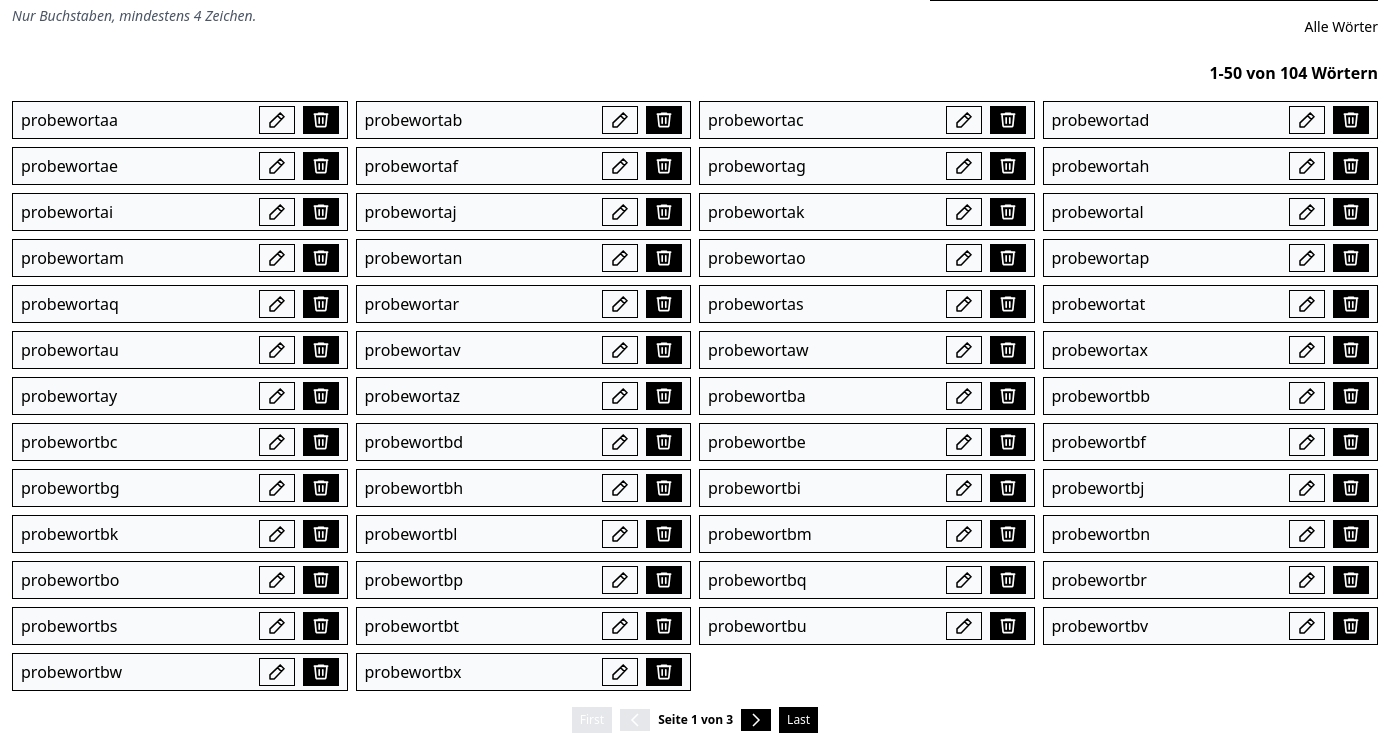
Test: WortgeflechtWordList › searches across all dictionary words and resets to page 1
The image size is (1390, 733).
(page scrolled)
Expected: the text "1-50 von 104 Wörtern" is shown, left=1209, top=62, right=1378, bottom=84
Step 1. Click the button named "Next page" → x=756, y=720, box left=741, top=709, right=771, bottom=731
Wait 250 ms
(page scrolled)
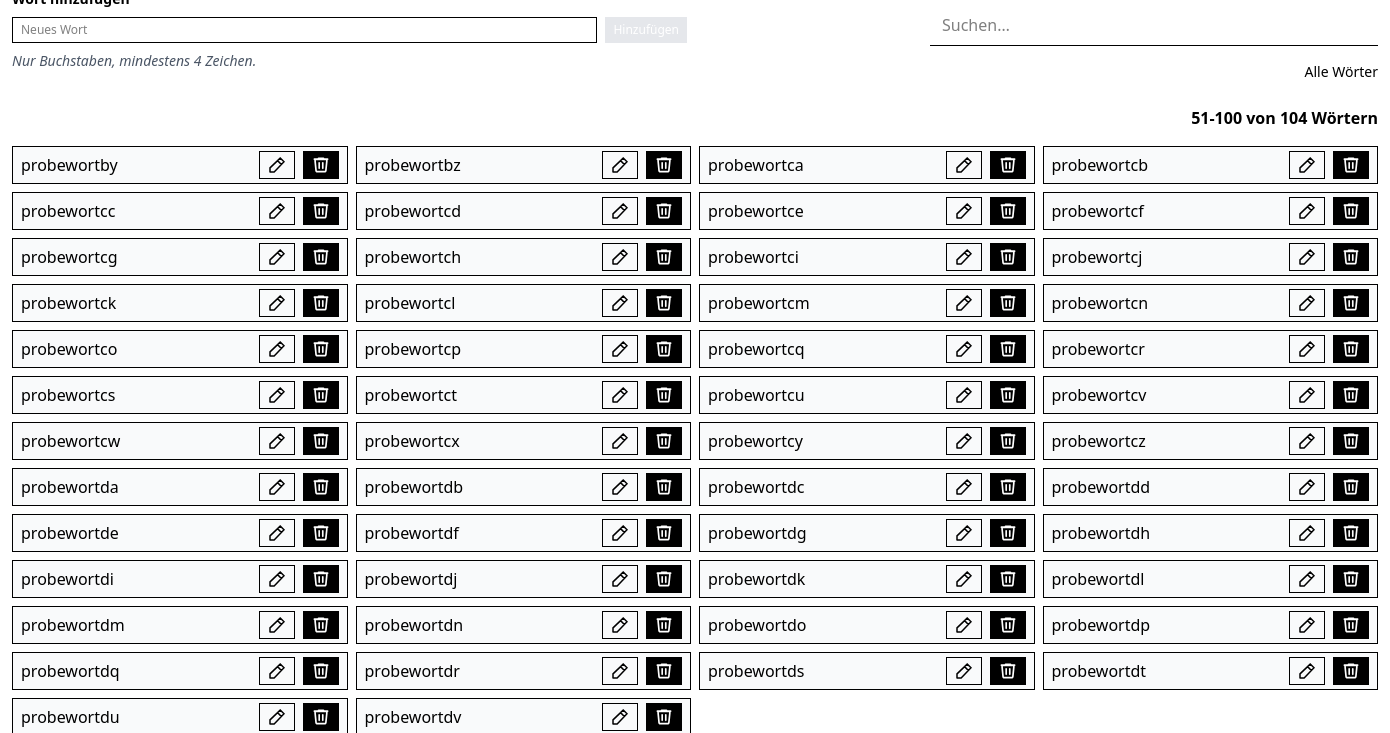
Expected: the text "51-100 von 104 Wörtern" is shown, left=1191, top=107, right=1378, bottom=129
Step 2. Type "wa" into the search field named "Nach Wörtern suchen" → x=1154, y=26, box left=930, top=5, right=1378, bottom=46
Wait 400 ms
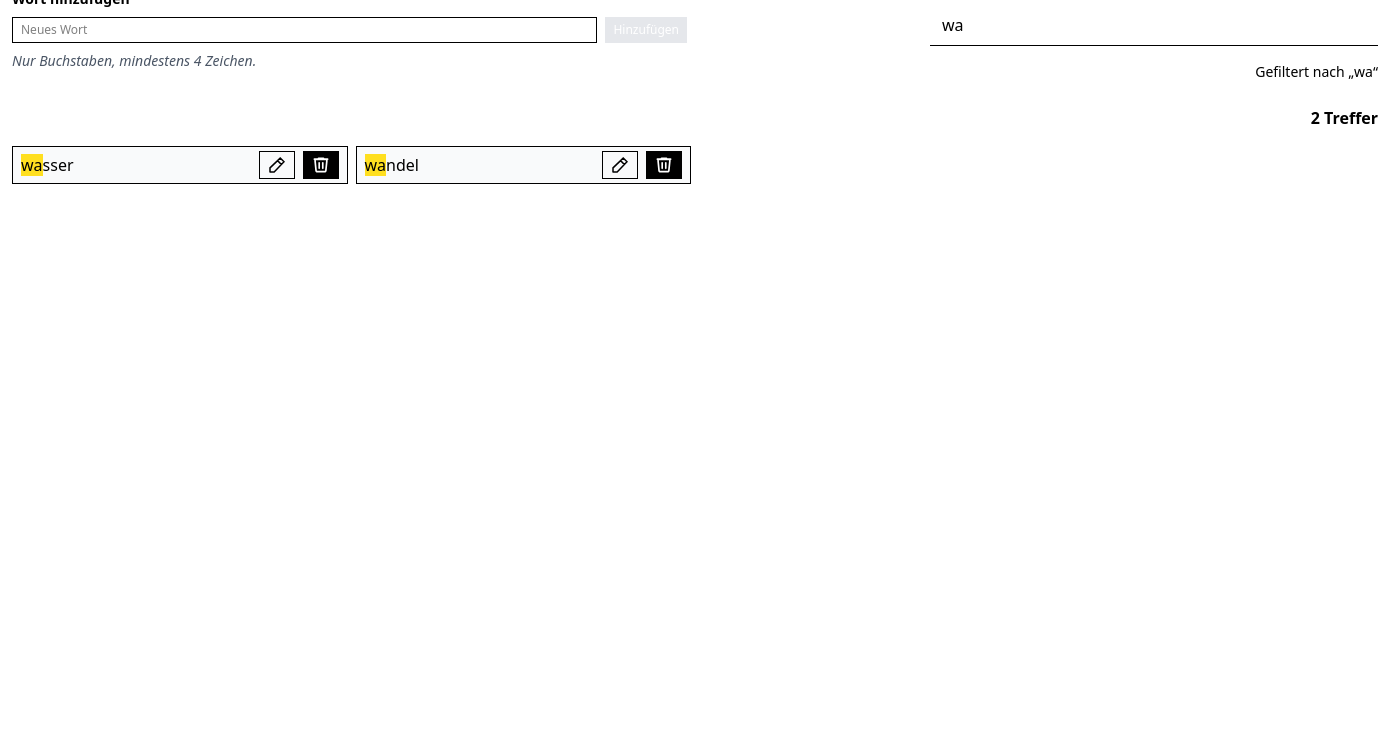
Expected: the text "2 Treffer" is shown, left=1311, top=107, right=1378, bottom=129
